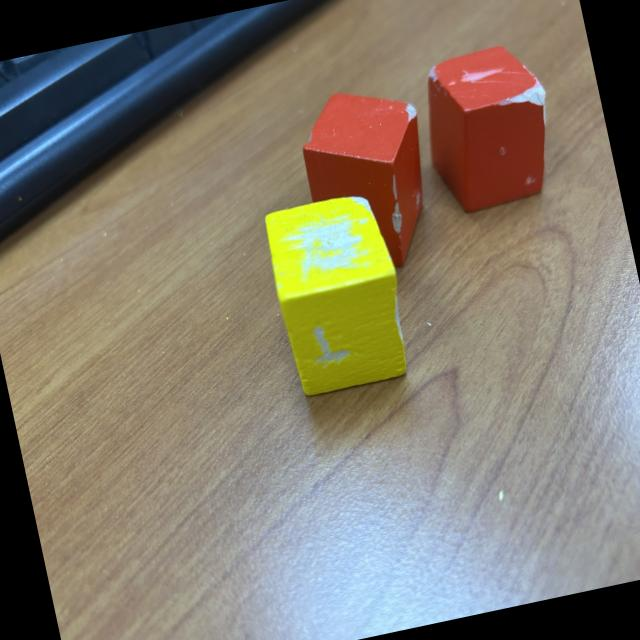broken: (259, 188, 417, 400), (292, 76, 448, 282), (410, 39, 568, 218)
